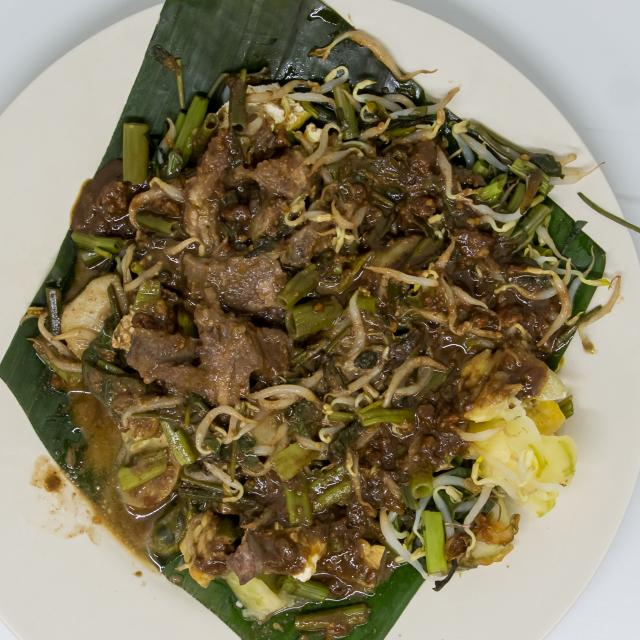Rujak-Cingur: (34, 61, 590, 578)
